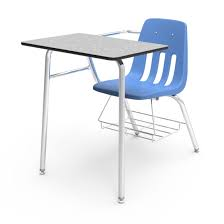desk: (16, 11, 201, 210)
